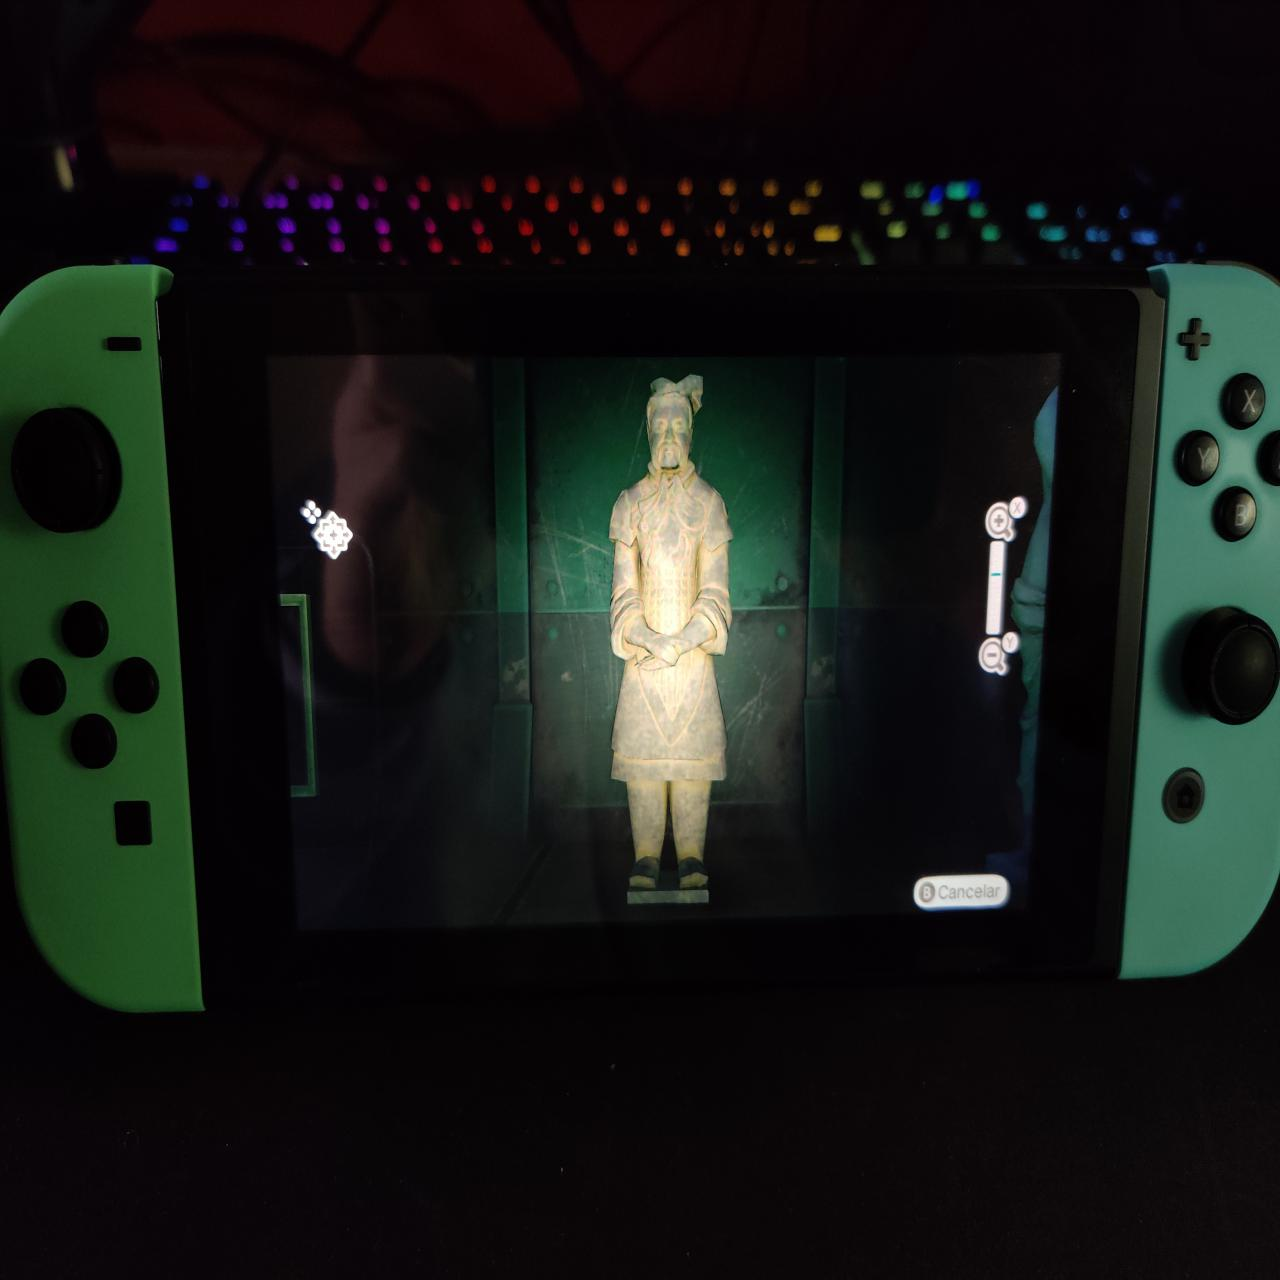Heibayo: (607, 367, 733, 911)
